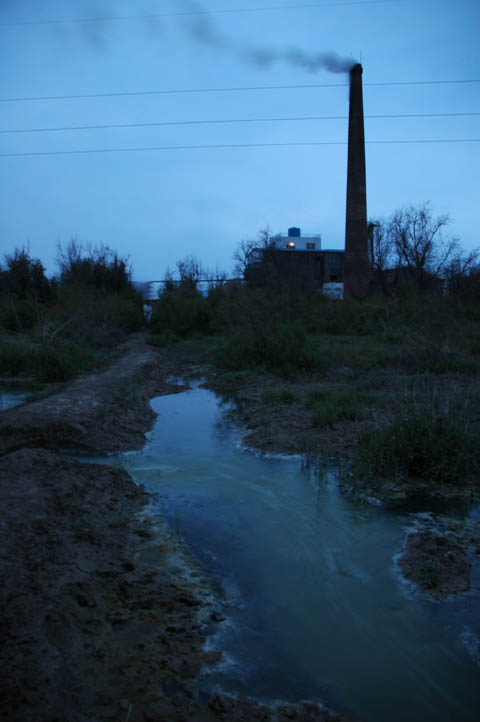dust: (220, 20, 372, 79)
